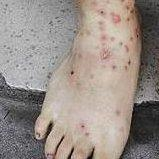Fleas: (98, 24, 111, 60), (108, 10, 123, 25), (125, 4, 135, 21), (132, 24, 141, 40), (78, 120, 88, 134), (120, 42, 131, 53), (68, 69, 78, 79), (97, 7, 106, 17), (125, 58, 131, 71), (111, 62, 116, 71), (115, 110, 120, 115)
